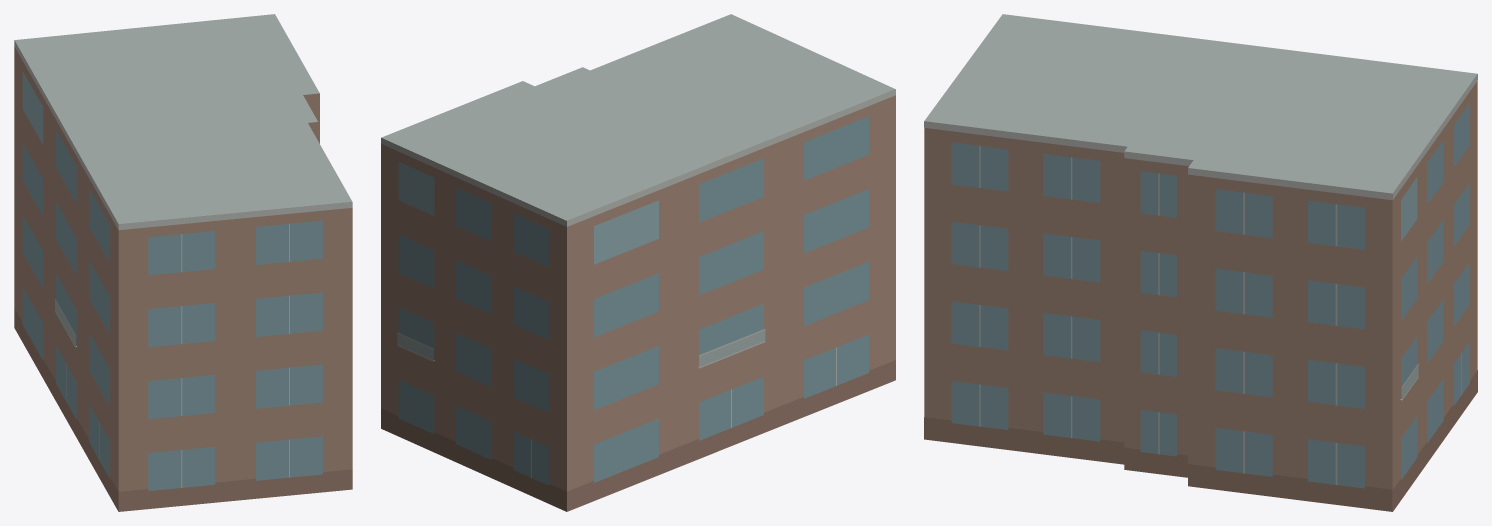
The model's file is survey-upis-32871691.glb.
3 renders of one model, left to right at view 1: azimuth 30°, elevation 25°; view 2: azimuth 150°, elevation 25°; view 3: azimuth 270°, elevation 25°, orthographic. The views are drawn at different scales.
Parts seen in each view (by area): view 1: survey-upis-32871691.tmp; view 2: survey-upis-32871691.tmp; view 3: survey-upis-32871691.tmp.
Boxes of the visible parts, x1=… form: survey-upis-32871691.tmp: x1=14, y1=14, x2=352, y2=511; survey-upis-32871691.tmp: x1=381, y1=14, x2=895, y2=511; survey-upis-32871691.tmp: x1=924, y1=14, x2=1477, y2=511.
Size of the model in its own units: 14.17 by 11.7 by 18.46.
